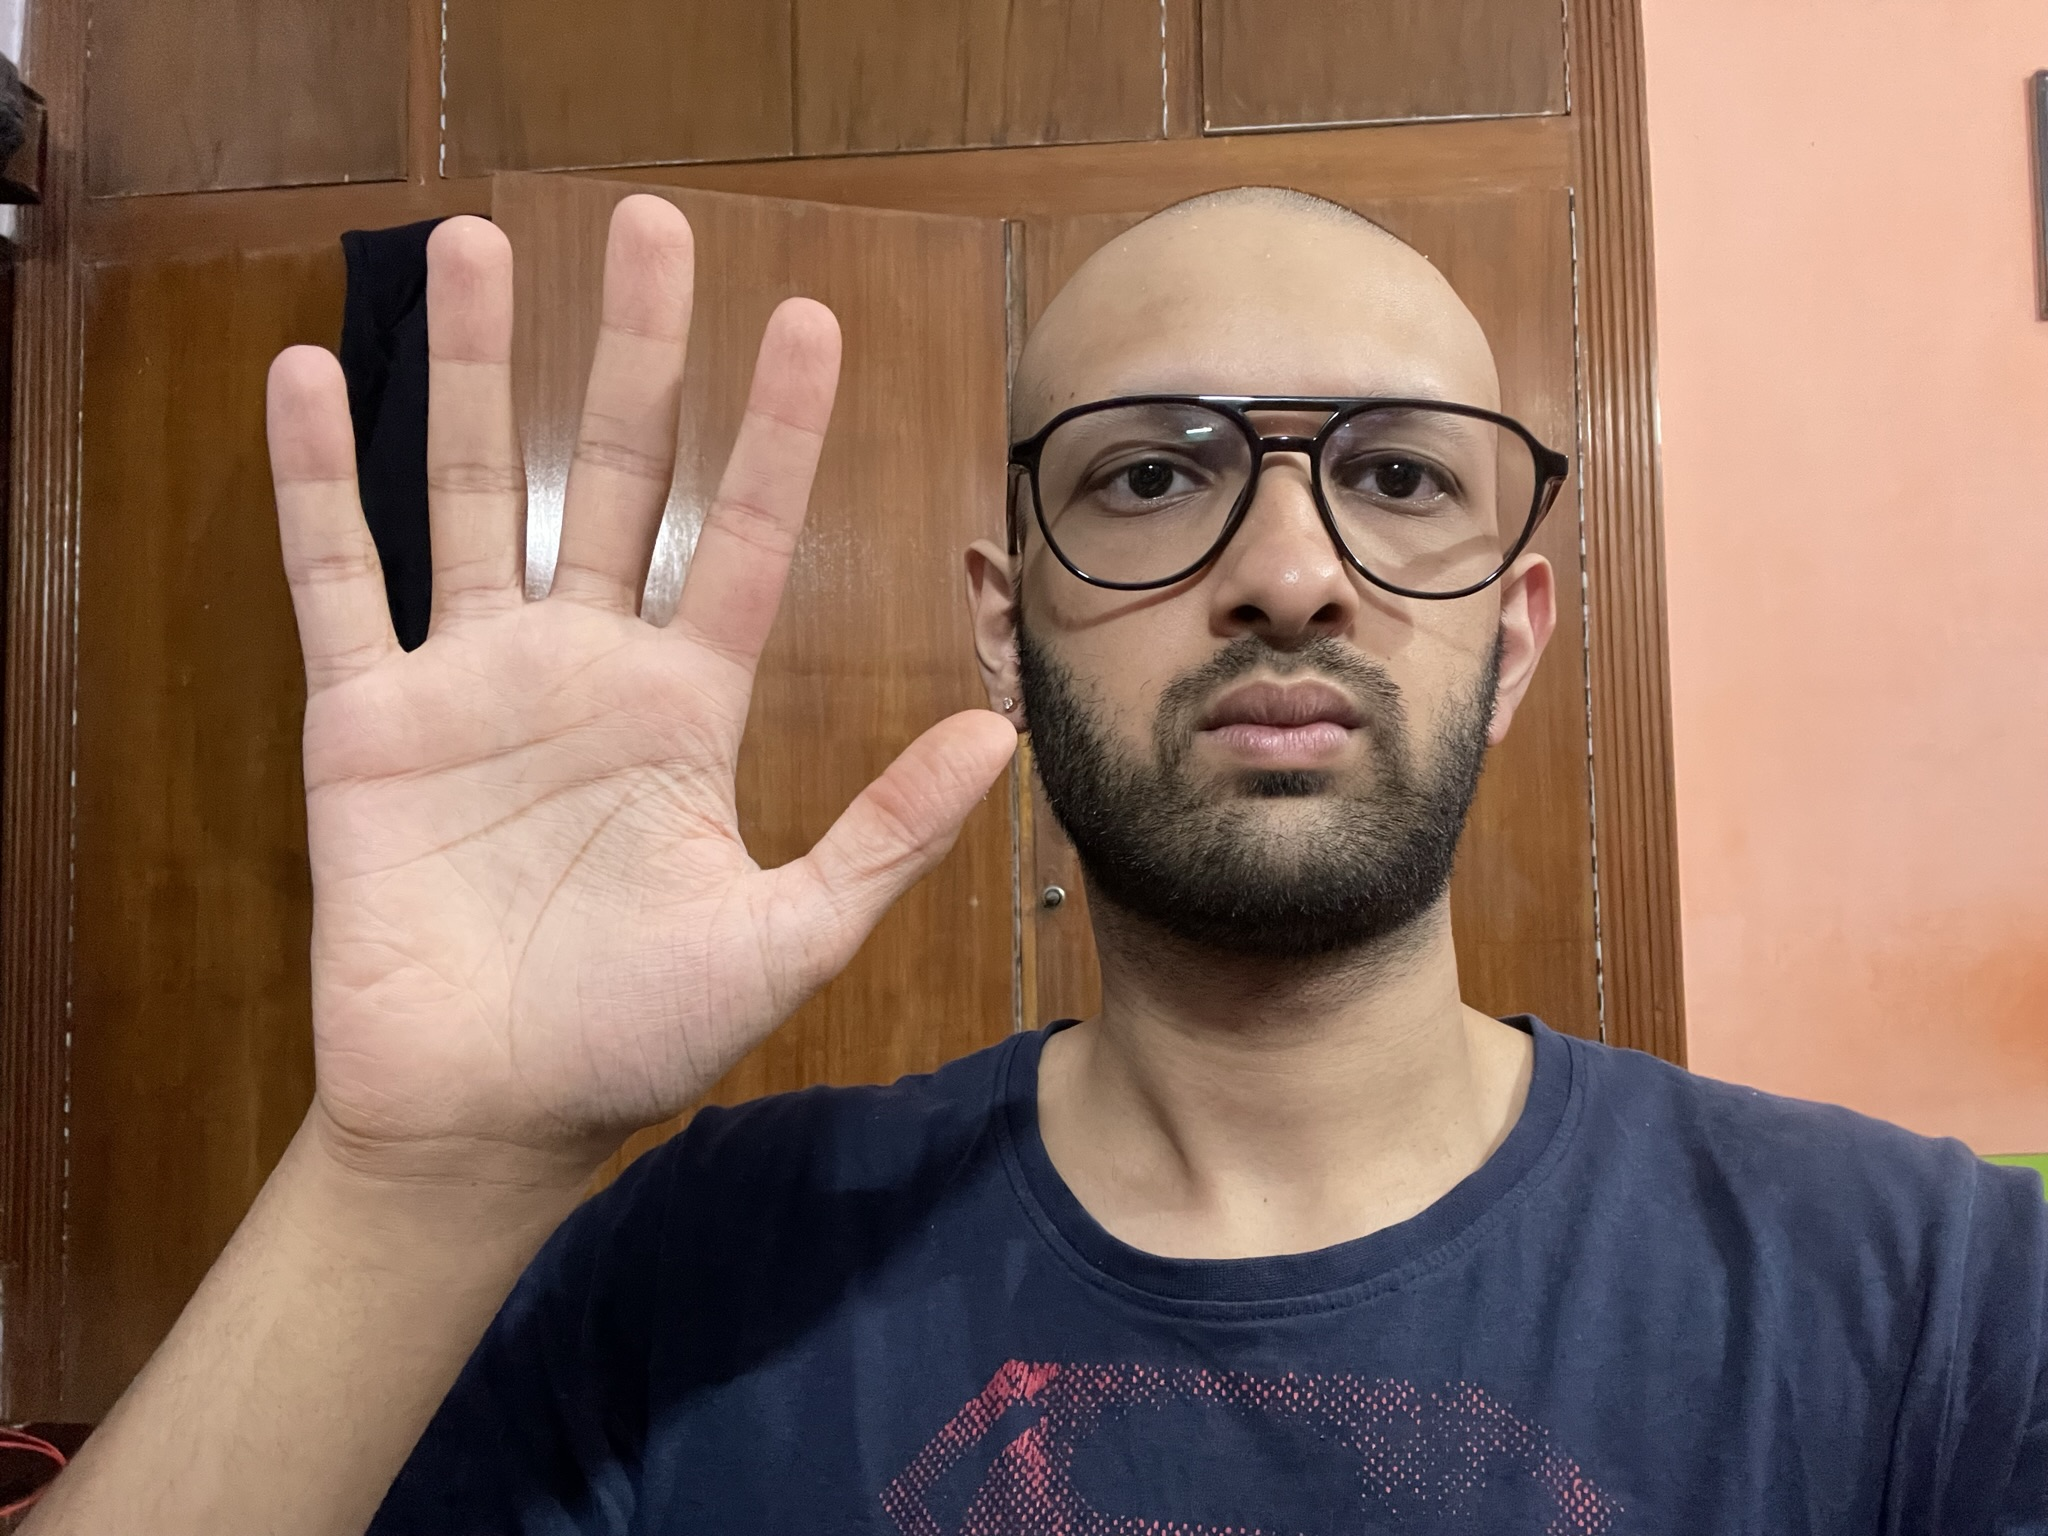Hello: (255, 184, 1024, 1168)
